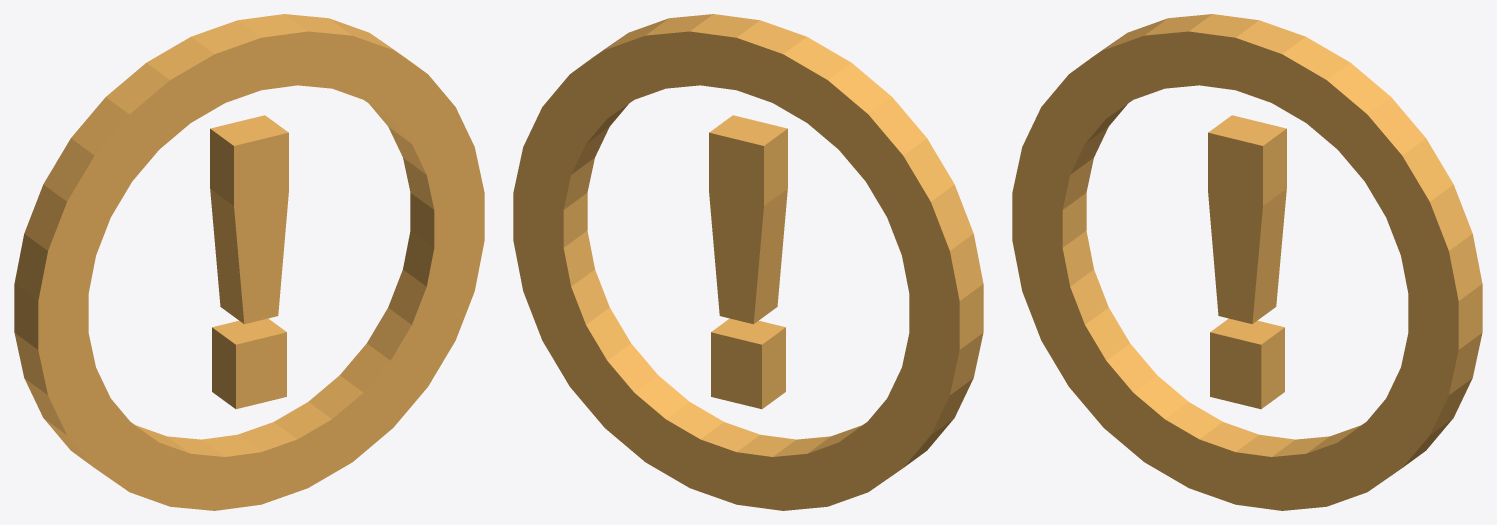
The model's file is alert.glb.
The picture shows the model from 3 angles, left to right: view 1: azimuth 30°, elevation 25°; view 2: azimuth 150°, elevation 25°; view 3: azimuth 330°, elevation 25°; orthographic projection.
Visible parts, largest first — view 1: obj_0; view 2: obj_0; view 3: obj_0.
Part boxes in pixels (x1,y1,x2,y2): obj_0: (14,14,484,510); obj_0: (513,14,983,510); obj_0: (1012,14,1482,510).
Size of the model in its own units: 54 by 54 by 5.
